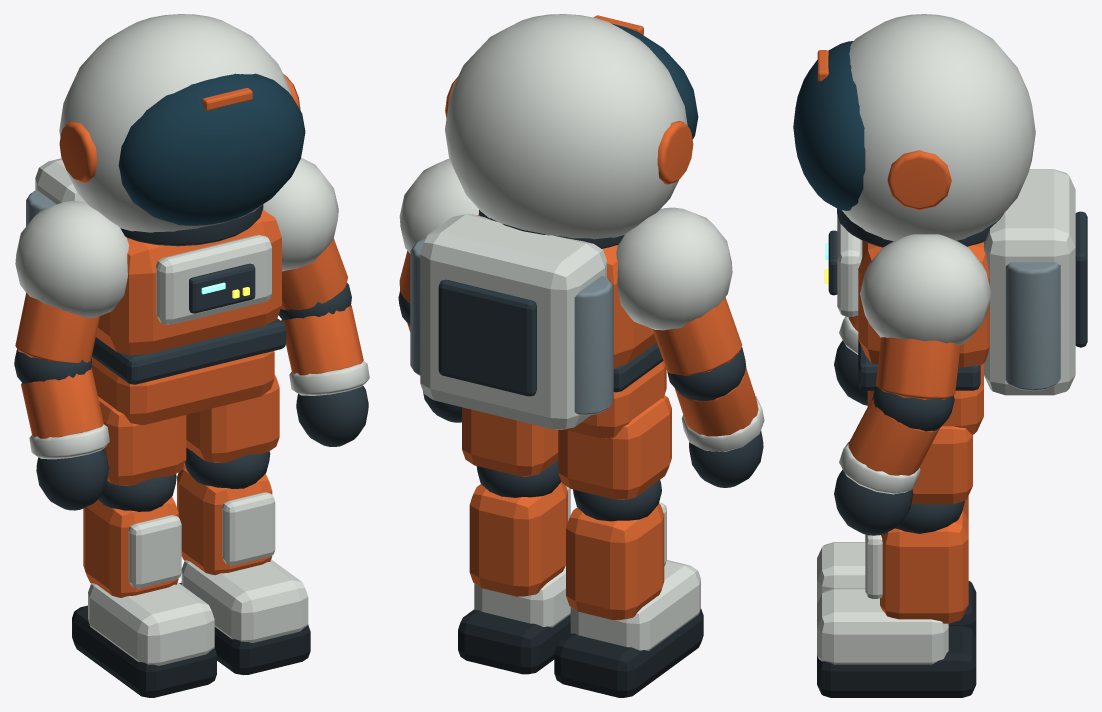
Rendered from astronaut.glb.
3 views of the same model, side by side, from view 1: azimuth 30°, elevation 25°; view 2: azimuth 150°, elevation 25°; view 3: azimuth 270°, elevation 25° (orthographic). The views are drawn at different scales.
Visible parts, largest first — view 1: Visor / dark wraparound, Helmet / ivory pressure shell, Shoulder bell, Torso pressure suit, Boot / ceramic toe, Pelvis pressure shell, Boot / ceramic toe.001, Chest ceramic plate, Waist seal, Shoulder bell.001, Thigh.001, Thigh (+23 smaller); view 2: Helmet / ivory pressure shell, Life support pack, Shoulder bell, Pack inset, Shin pressure shell, Shin pressure shell.001, Thigh, Boot / graphite sole, Boot / ceramic toe, Pack oxygen cartridge, Boot / graphite sole.001, Thigh.001 (+16 smaller); view 3: Helmet / ivory pressure shell, Shoulder bell.001, Life support pack, Visor / dark wraparound, Shin pressure shell.001, Boot / ceramic toe.001, Pack oxygen cartridge.001, Boot / graphite sole.001, Upper sleeve.001, Forearm.001, Thigh.001, Glove.001 (+16 smaller).
Boxes of the visible parts, x1,y1,x2,y2 form: Visor / dark wraparound: (118, 73, 305, 225); Helmet / ivory pressure shell: (59, 14, 291, 232); Shoulder bell: (15, 201, 128, 317); Torso pressure suit: (96, 209, 281, 355); Boot / ceramic toe: (88, 582, 214, 665); Pelvis pressure shell: (91, 351, 274, 425); Boot / ceramic toe.001: (181, 559, 308, 642); Chest ceramic plate: (156, 235, 271, 324); Waist seal: (92, 318, 286, 384); Shoulder bell.001: (263, 158, 338, 271); Thigh.001: (186, 374, 279, 462); Thigh: (98, 396, 186, 485); Helmet / ivory pressure shell: (445, 14, 687, 239); Life support pack: (420, 214, 606, 429); Shoulder bell: (616, 207, 732, 330); Pack inset: (438, 279, 536, 396); Shin pressure shell: (566, 503, 664, 620); Shin pressure shell.001: (469, 482, 567, 596); Thigh: (558, 395, 671, 499); Boot / graphite sole: (554, 608, 703, 697); Boot / ceramic toe: (570, 560, 700, 650); Pack oxygen cartridge: (574, 275, 613, 415); Boot / graphite sole.001: (458, 609, 570, 674); Thigh.001: (462, 407, 558, 476); Helmet / ivory pressure shell: (842, 14, 1035, 241); Shoulder bell.001: (860, 234, 991, 345); Life support pack: (984, 169, 1075, 395); Visor / dark wraparound: (793, 41, 865, 210); Shin pressure shell.001: (880, 509, 968, 623); Boot / ceramic toe.001: (817, 588, 948, 664); Pack oxygen cartridge.001: (1005, 262, 1060, 391); Boot / graphite sole.001: (817, 625, 976, 697); Upper sleeve.001: (876, 337, 960, 399); Forearm.001: (848, 398, 939, 475); Thigh.001: (911, 426, 972, 504); Glove.001: (834, 469, 913, 535).
Bounding box in the file's own units: 1.26 × 2.29 × 0.9625.
